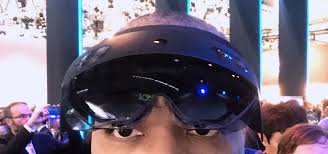hololens: (59, 26, 266, 137)
